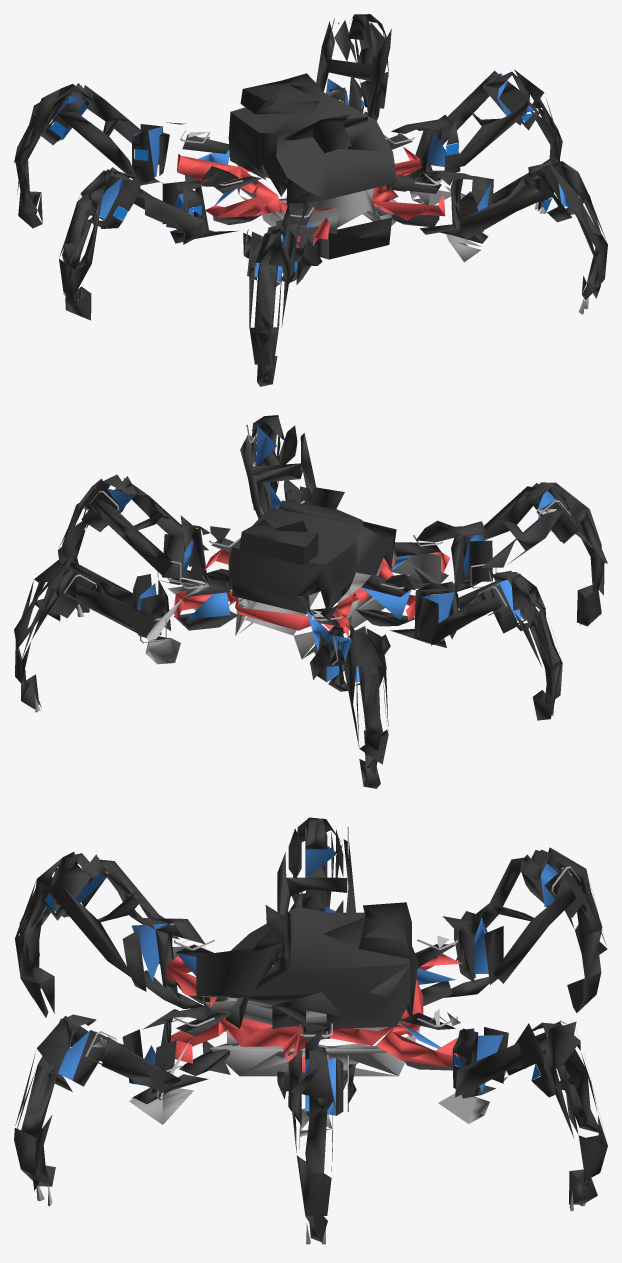
Rendered from model-lite.lod0.glb.
3 views of the same model, one above another, from view 1: azimuth 30°, elevation 25°; view 2: azimuth 150°, elevation 25°; view 3: azimuth 270°, elevation 25° (orthographic). The views are drawn at different scales.
Visible parts, largest first — view 1: Body4, Body1:14, Body1, Body7, Body31; view 2: Body4, Body1:14, Body7, Body31, Body1, Body1:7; view 3: Body4, Body1:14, Body7, Body1, Body31.
Boxes of the visible parts, <box> form: Body4: <box>18,20,607,386</box>; Body1:14: <box>14,14,498,243</box>; Body1: <box>177,147,445,247</box>; Body7: <box>76,18,588,314</box>; Body31: <box>52,73,570,282</box>; Body4: <box>18,415,607,788</box>; Body1:14: <box>14,487,501,774</box>; Body7: <box>34,424,570,712</box>; Body31: <box>100,425,577,682</box>; Body1: <box>173,549,449,638</box>; Body1:7: <box>147,430,556,640</box>; Body4: <box>14,817,601,1242</box>; Body1:14: <box>252,839,607,1180</box>; Body7: <box>36,826,585,1244</box>; Body1: <box>166,953,462,1072</box>; Body31: <box>58,828,557,1115</box>.
Bounding box in the file's own units: 49.59 × 16.14 × 43.1.
